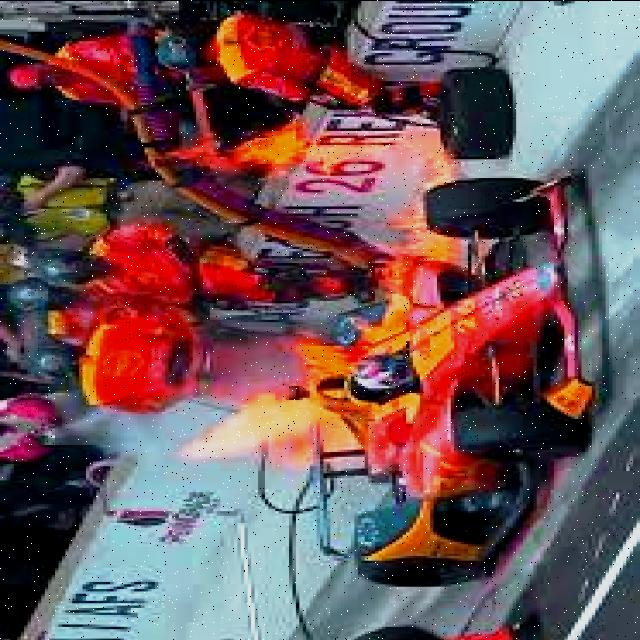api: (204, 318, 380, 476), (342, 115, 470, 323), (159, 105, 311, 187)
